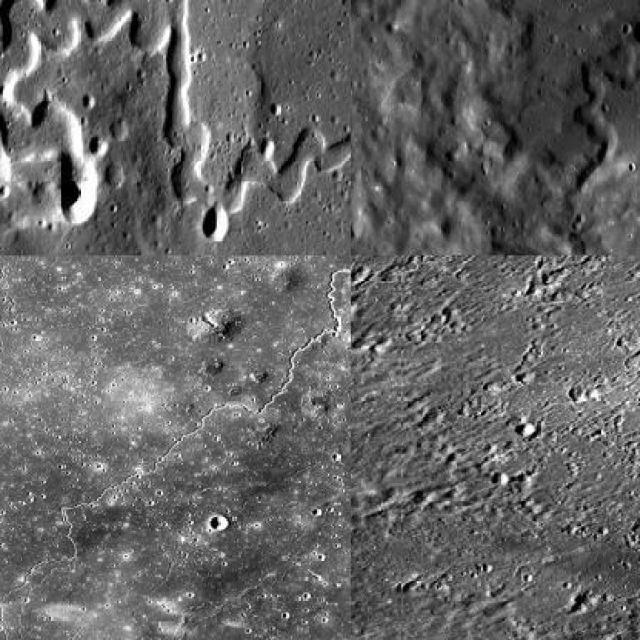rille: (0, 256, 349, 638), (0, 0, 349, 226), (566, 0, 639, 197), (231, 458, 326, 518)
